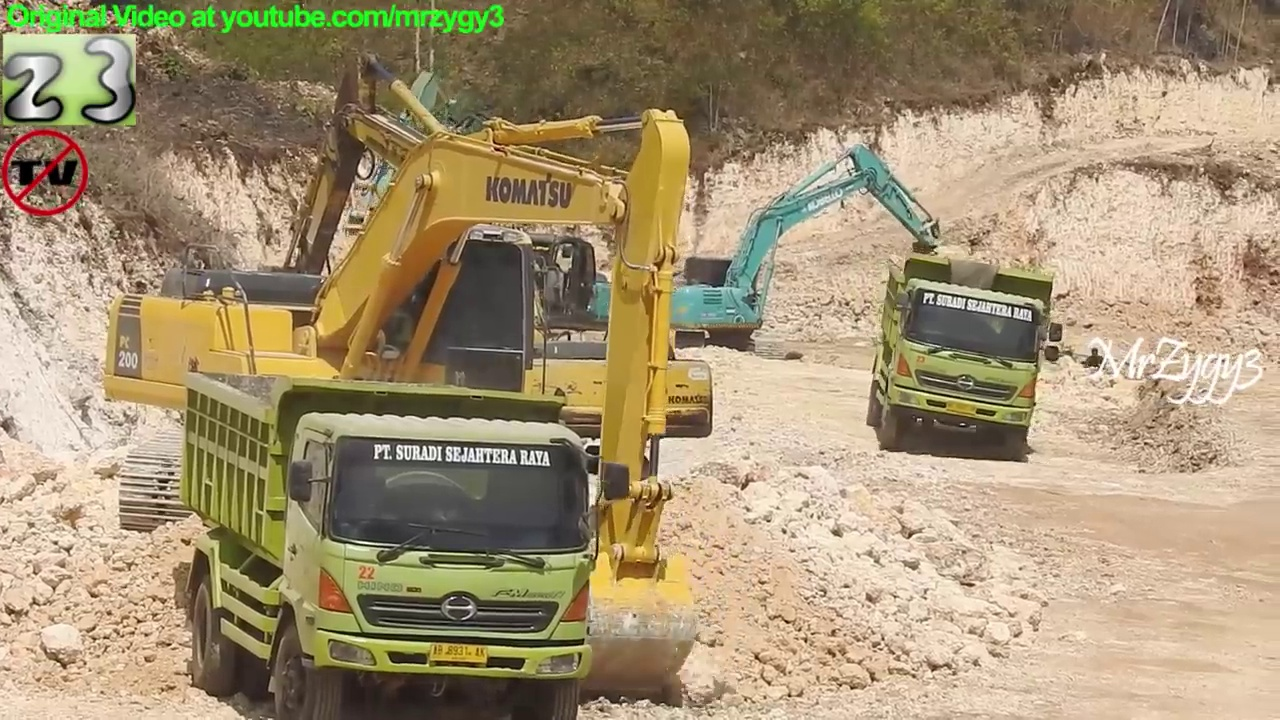excavator: (98, 100, 707, 706), (179, 44, 720, 520), (346, 62, 636, 395), (648, 137, 948, 372)
truck: (174, 358, 639, 720), (862, 247, 1069, 468)
